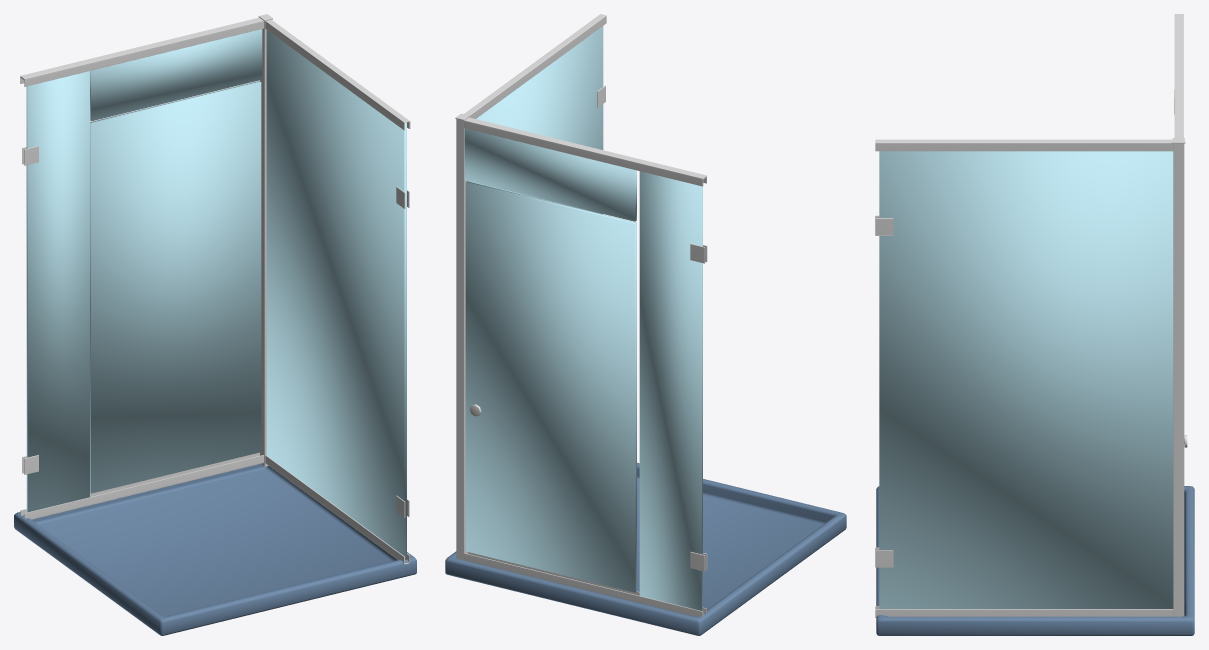
The model's file is doccia.fbx.
3 views of the same model, side by side, from view 1: azimuth 30°, elevation 25°; view 2: azimuth 150°, elevation 25°; view 3: azimuth 270°, elevation 25° (orthographic). The views are drawn at different scales.
Parts seen in each view (by area): view 1: doccia; view 2: doccia; view 3: doccia.
Part boxes in pixels (x1,y1,x2,y2): doccia: (14, 14, 416, 635); doccia: (445, 14, 846, 635); doccia: (875, 14, 1194, 635).
Bounding box in the file's own units: 118 × 200 × 118.
